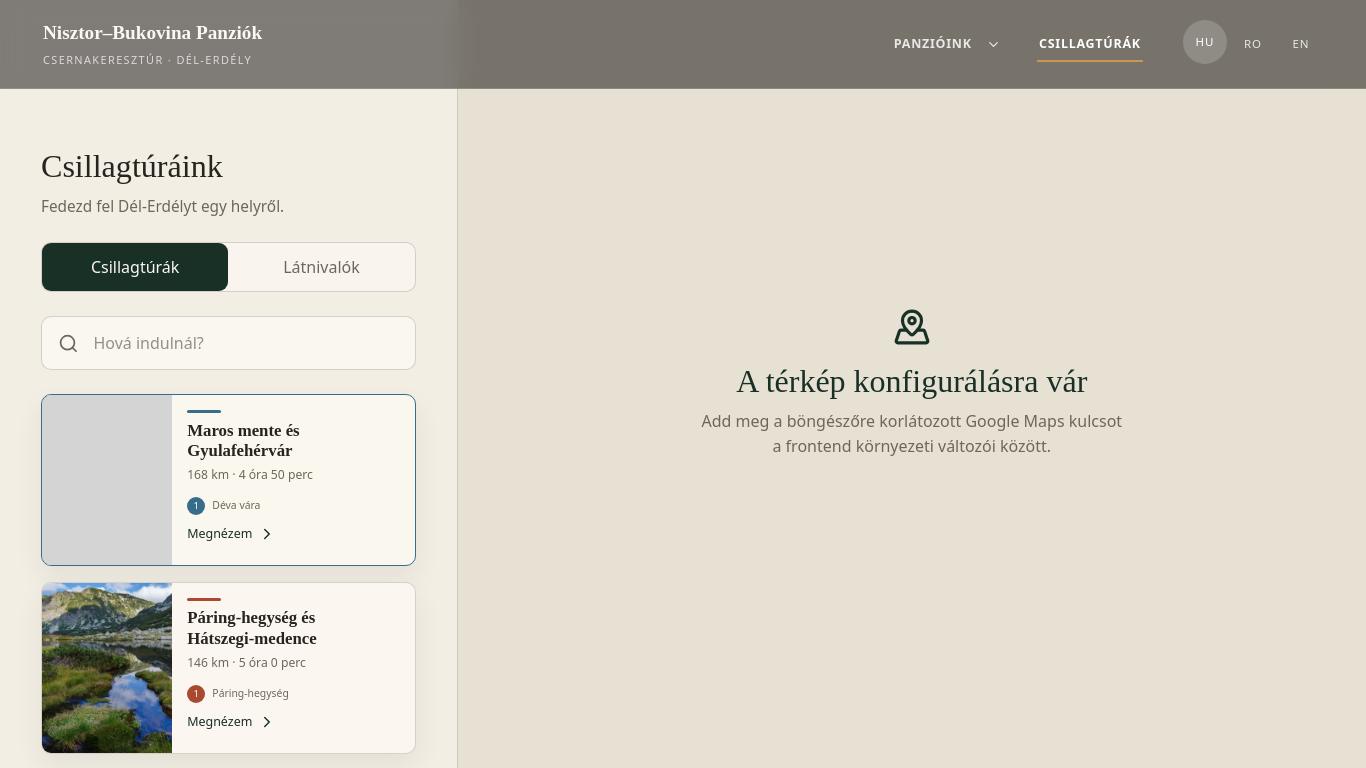
TourismMapPage › loads tours, switches to the attraction list and filters by category
This screenshot has width=1366, height=768.
Expected: the heading "Maros mente és Gyulafehérvár" is shown, [187, 421, 300, 460]
Click the tab "Látnivalók": (321, 267) [228, 243, 415, 291]
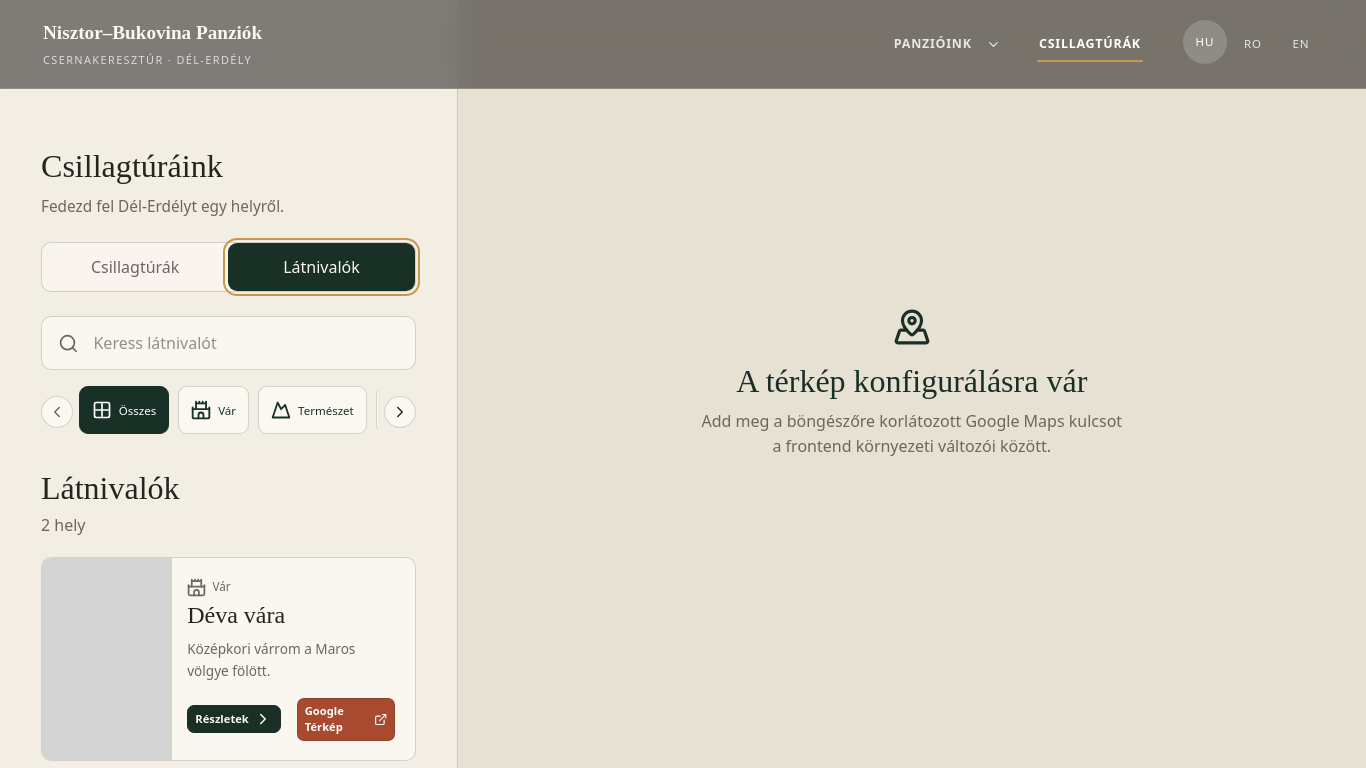
Expected: the heading "Déva vára" is shown, [187, 602, 285, 628]
Result: the heading "Látnivalók" is shown at [41, 470, 180, 506]
Click the button "Vár": (214, 410) [178, 386, 249, 434]
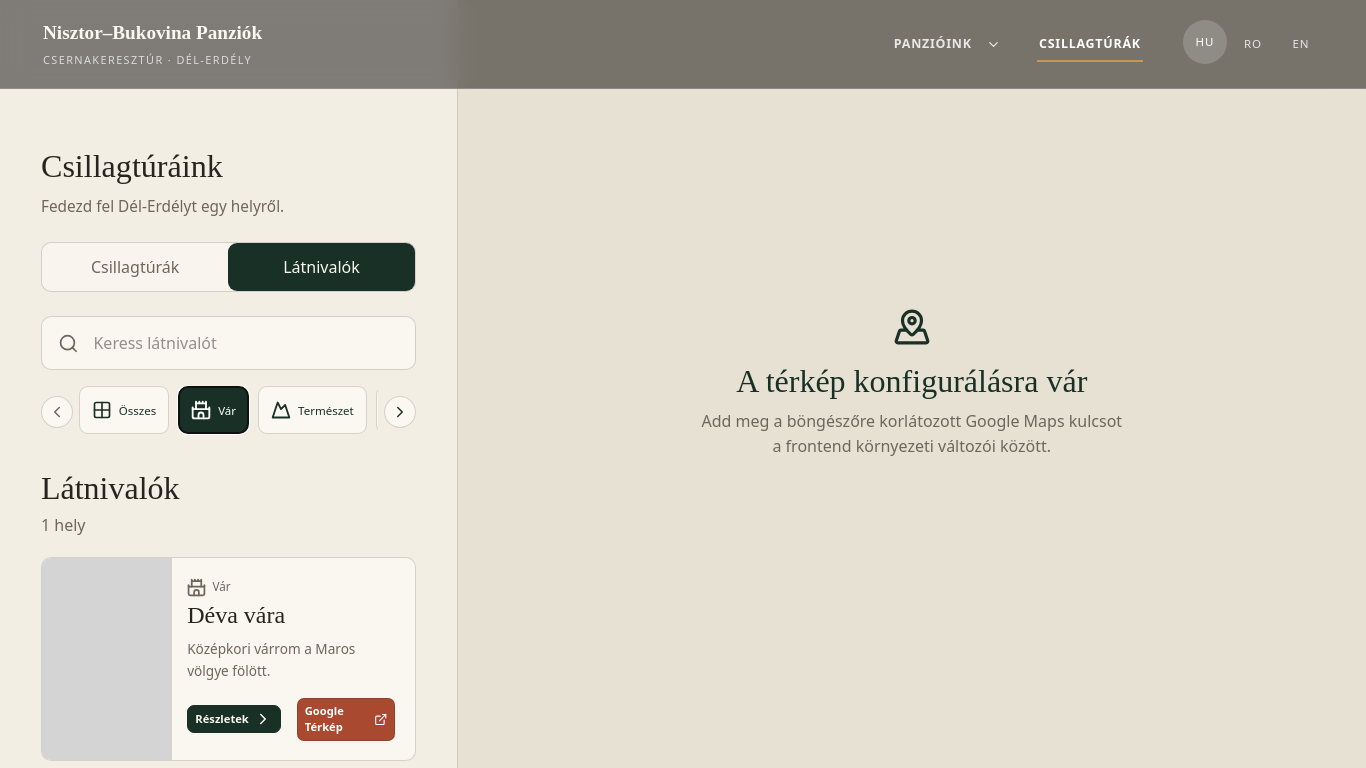
Expected: the text "Páring-hegység" is not shown
Result: the text "Déva vára" is shown at [187, 602, 285, 628]
Click the text "Déva vára": (228, 659) [41, 557, 416, 762]
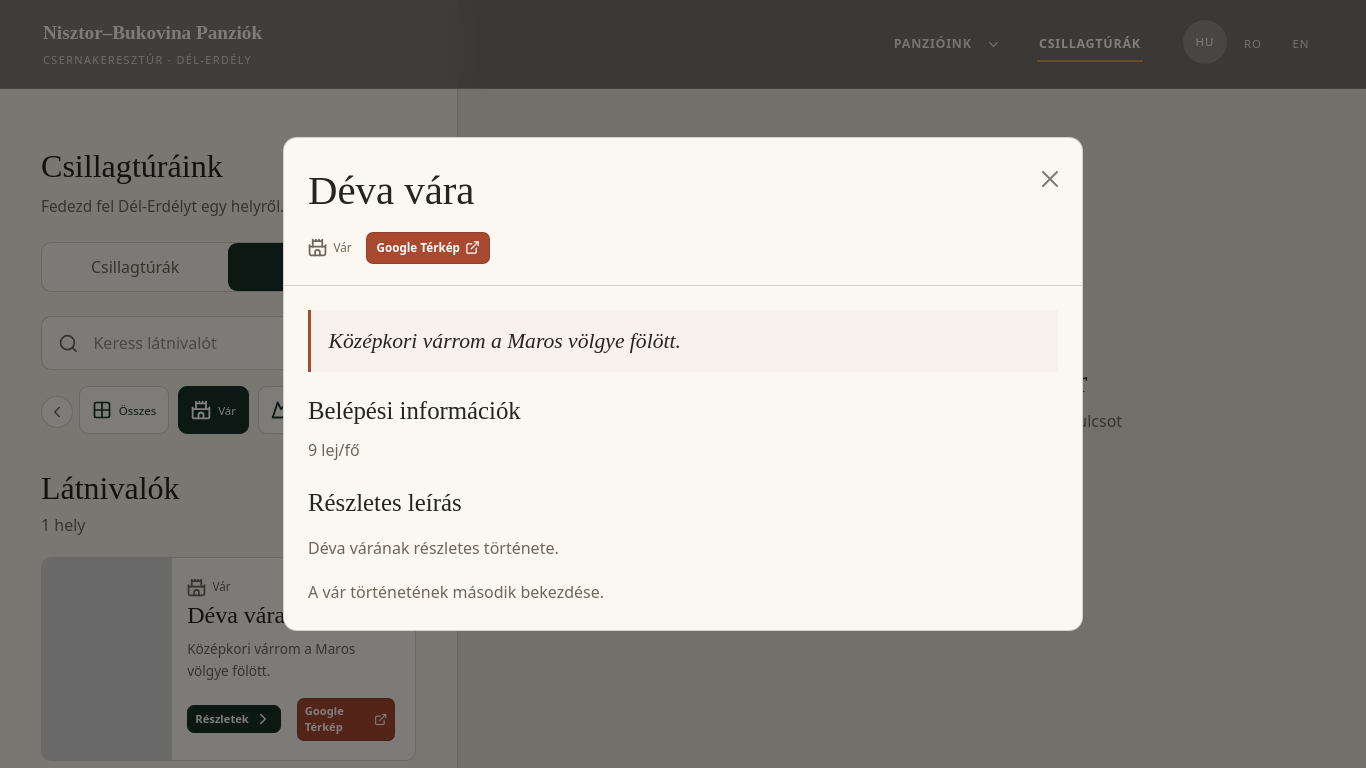
Result: the text with class "tourism-modal-quote" reads "Középkori várrom a Maros völgye fölött." at [329, 329, 681, 353]
Result: the element with class "tourism-attraction-category" reads "Vár" at [333, 240, 352, 255]
Press Escape
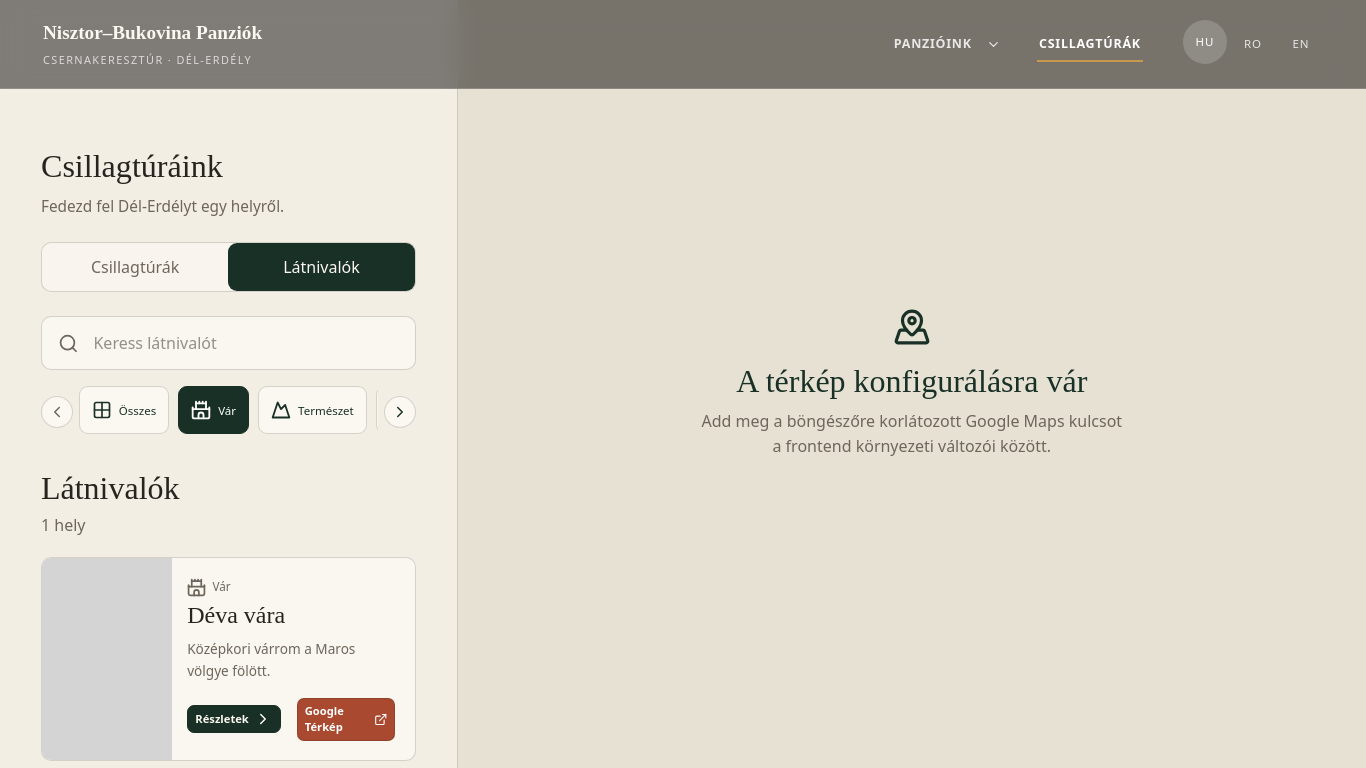
Result: the dialog is gone
